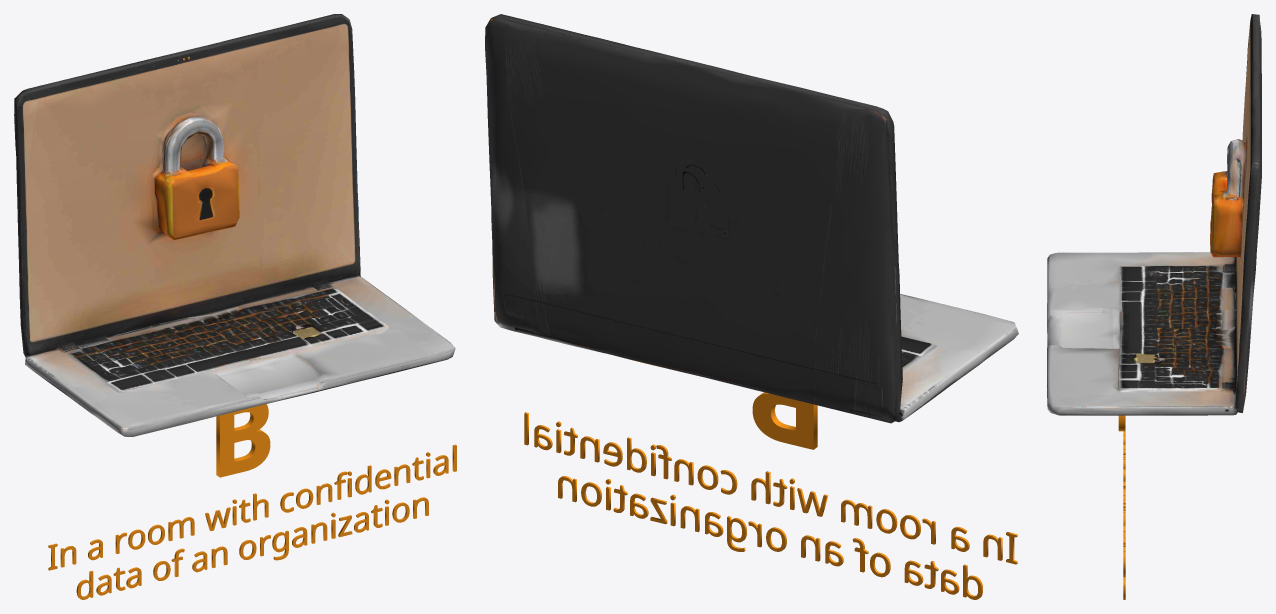
The model's file is B_laptop.glb.
3 renders of one model, left to right at view 1: azimuth 30°, elevation 25°; view 2: azimuth 150°, elevation 25°; view 3: azimuth 270°, elevation 25°, orthographic. The views are drawn at different scales.
Visible parts, largest first — view 1: B_laptop; view 2: B_laptop; view 3: B_laptop.
Boxes of the visible parts, bbox=[...] form: B_laptop: bbox=[14, 14, 456, 599]; B_laptop: bbox=[485, 14, 1018, 599]; B_laptop: bbox=[1047, 14, 1261, 599].
Bounding box in the file's own units: 0.9634 × 1.05 × 0.4641.
Materials: 2 (1 with a texture image).
